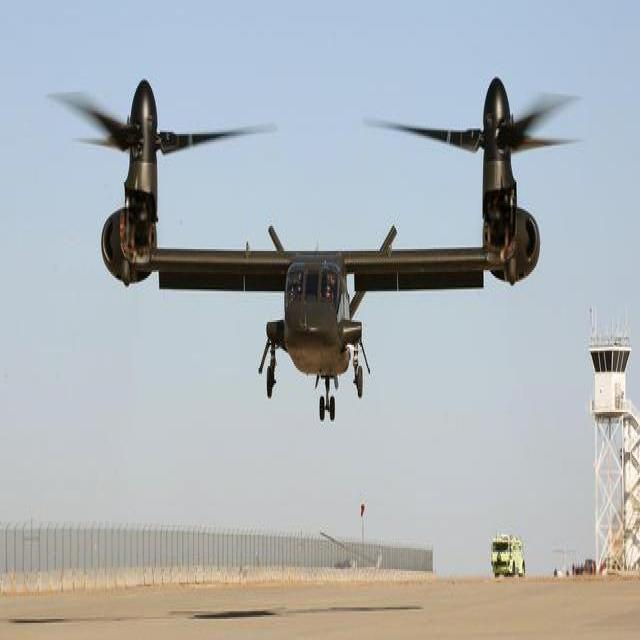MIL_HELO: (40, 60, 585, 435)
